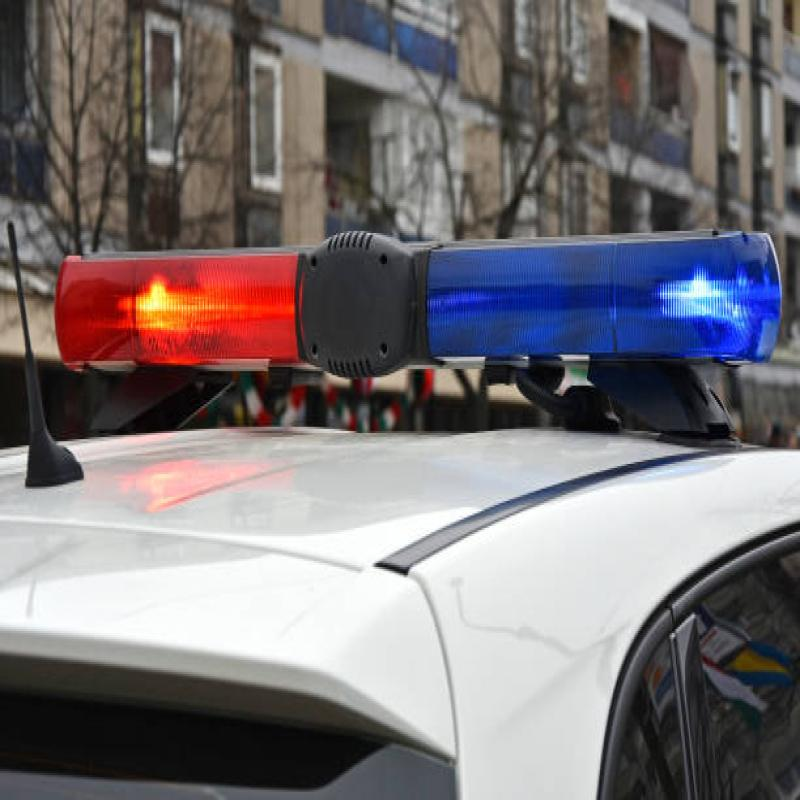AmbulanceSiren: (24, 205, 788, 414)
